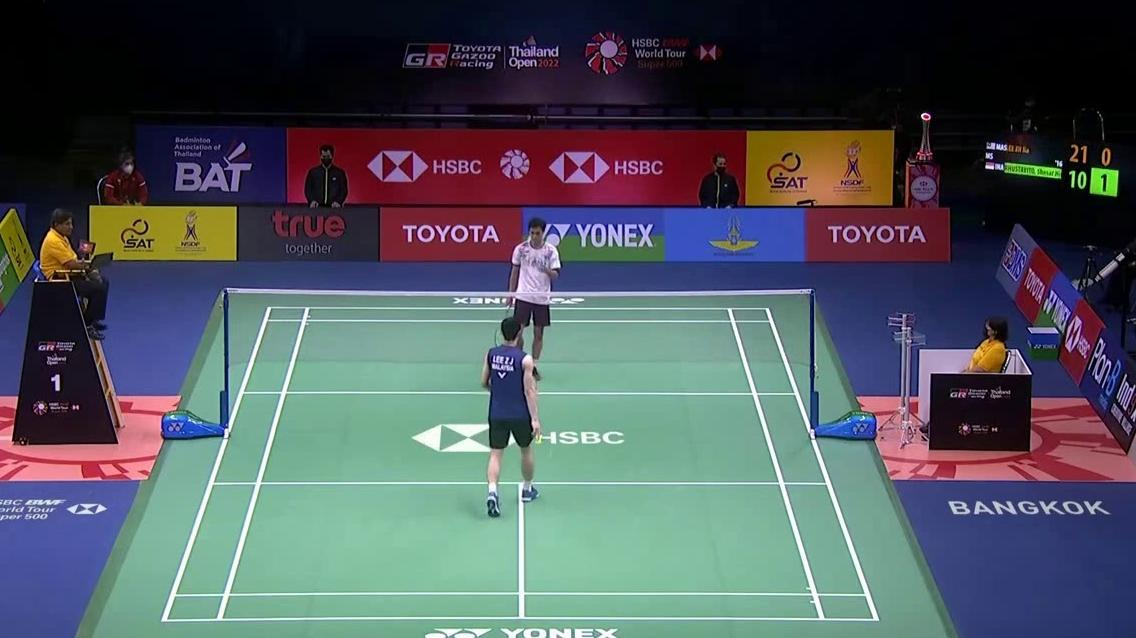racket: (494, 296, 514, 350)
